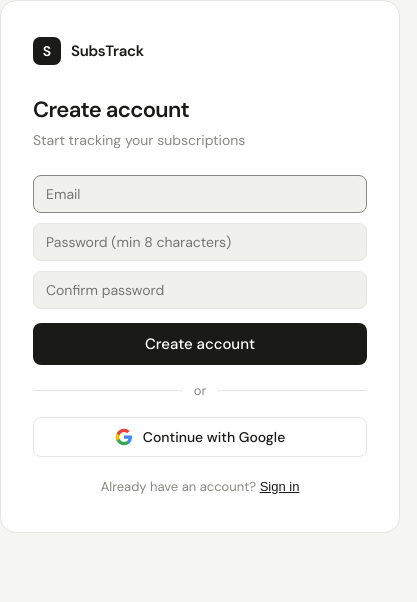
Scenario: Register › shows error when email is empty
This screenshot has width=417, height=602.
Click the button "Create account".
click(200, 344)  # box [33,323,367,365]
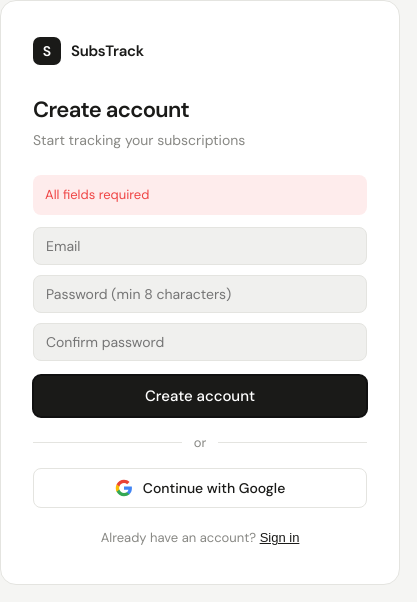
Check: the text "All fields required" is shown, box [33,175,367,214]
